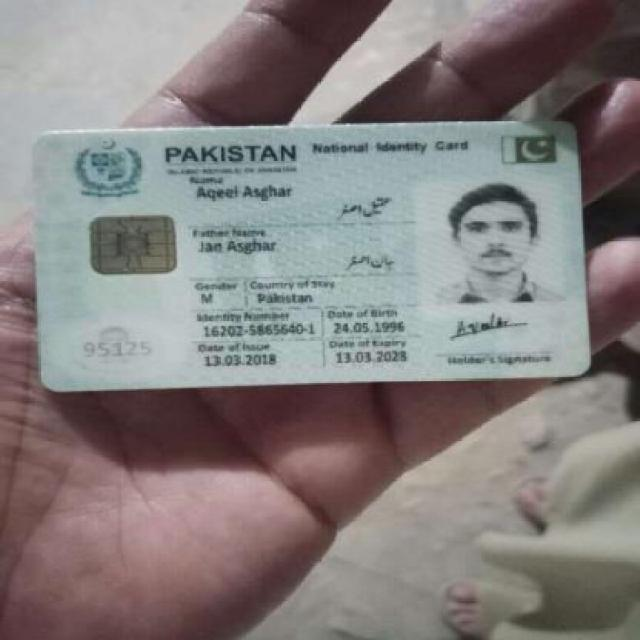Front: (23, 125, 599, 386)
